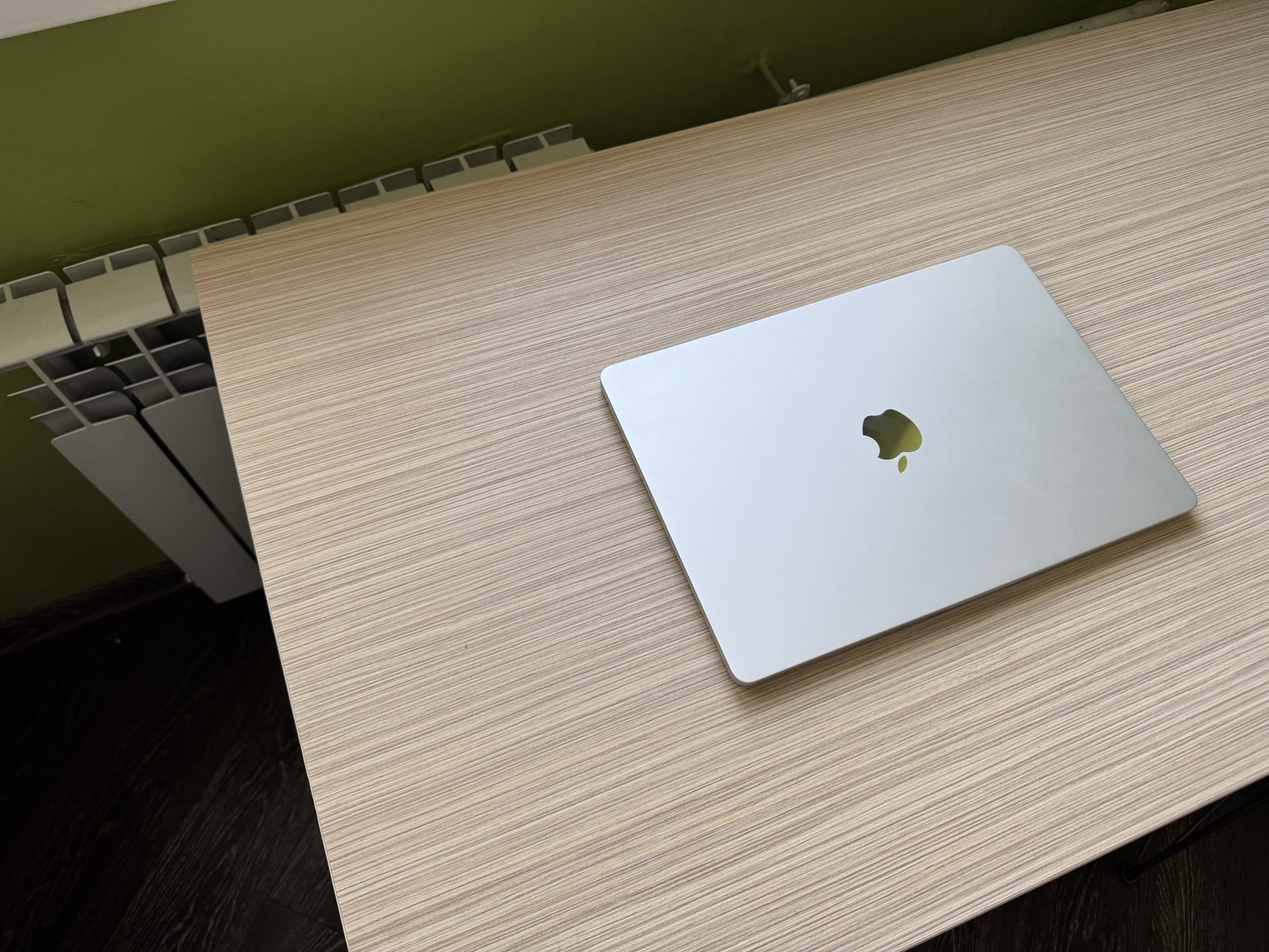laptop: (599, 242, 1198, 685)
